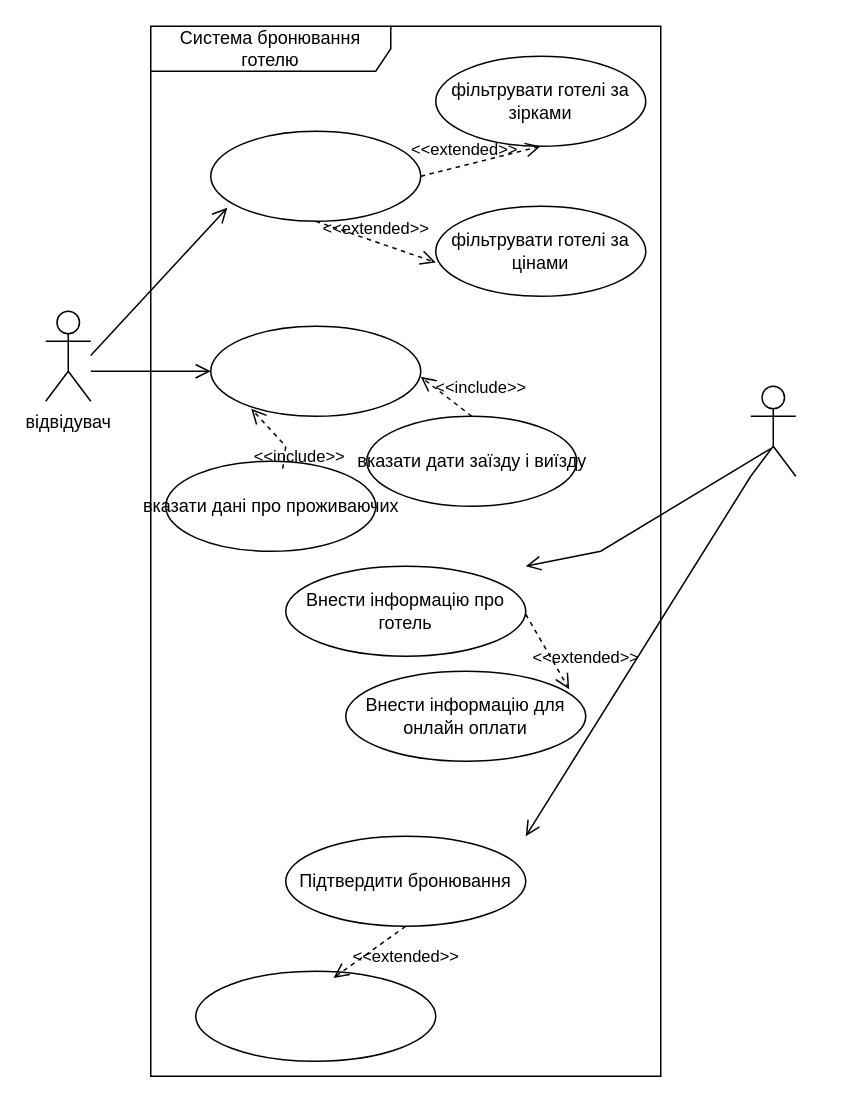
The diagram is 843 pixels wide and 1103 high, and some of its shapes have lost their labels. The shapes that lost their labels are listed below. From the top down, each one's box as (x1, y1, x2, y2) in pixels, then its label:
(209, 130, 421, 221): Обрати доступні готелі
(209, 325, 421, 416): забронювати готель
(749, 385, 796, 476): Менеджер
(194, 970, 436, 1061): Підтвердити онлайн оплату
